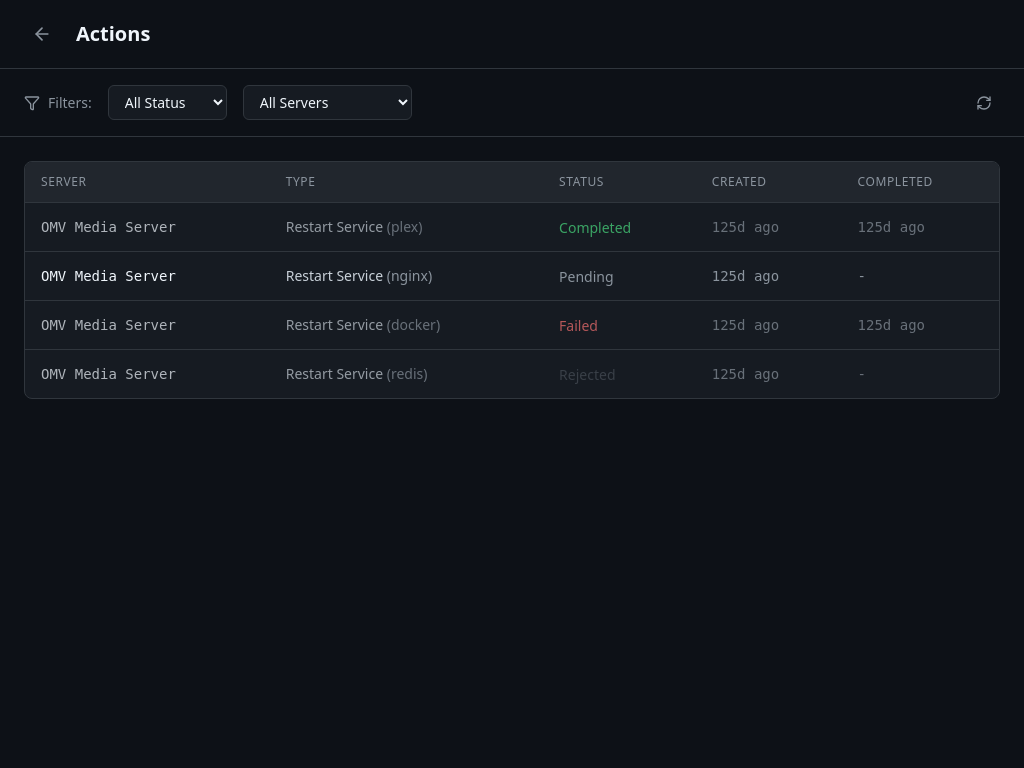
Test: ActionsPage › Action detail panel (TC178) › closes detail panel when clicking backdrop
The width and height of the screenshot is (1024, 768).
Click the row with test id "action-row-1" at (512, 227), box [25,202,999,252]
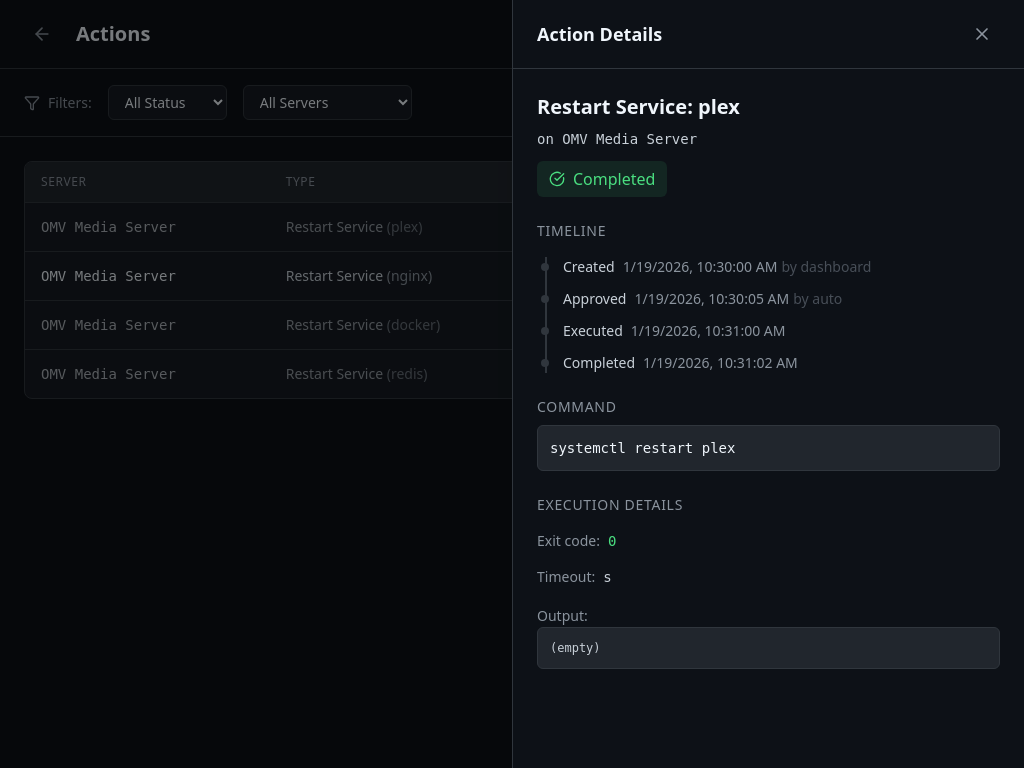
Check: the element with test id "action-detail-panel" is shown, box [512,0,1023,767]
Click the element with test id "action-detail-backdrop" at (61, 384), box [0,0,1023,767]
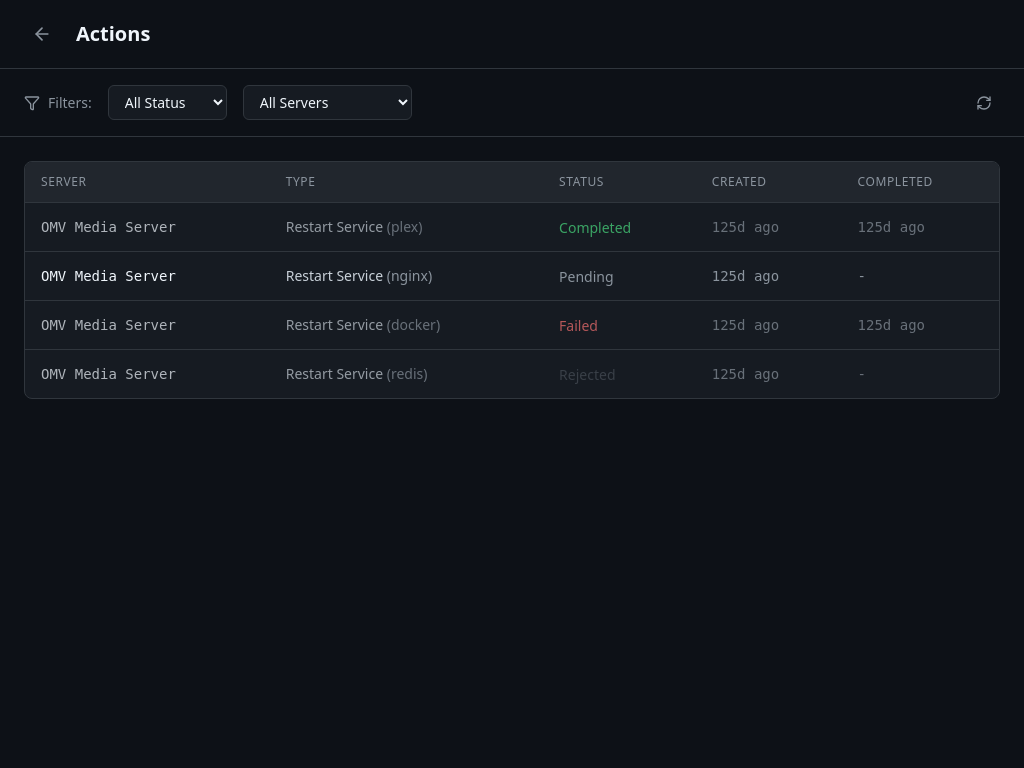
Check: the element with test id "action-detail-panel" is gone
